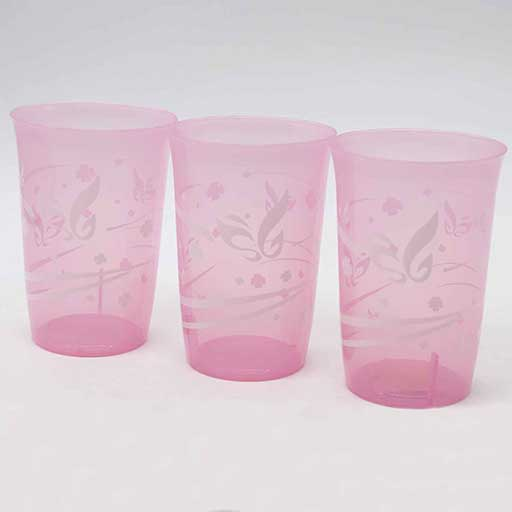plastic_glass: (329, 125, 512, 412), (165, 113, 341, 386), (1, 99, 178, 367)
